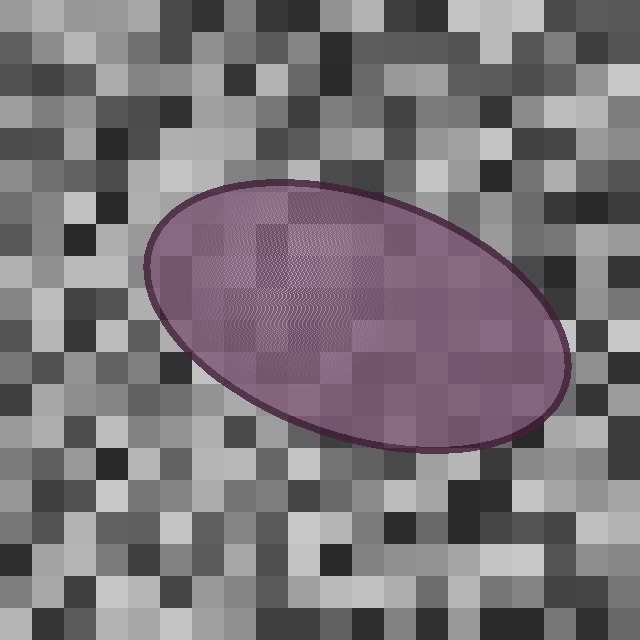lens: (147, 182, 567, 450)
